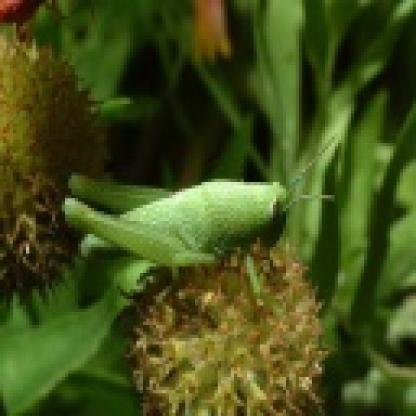grasshopper: (60, 165, 324, 266)
